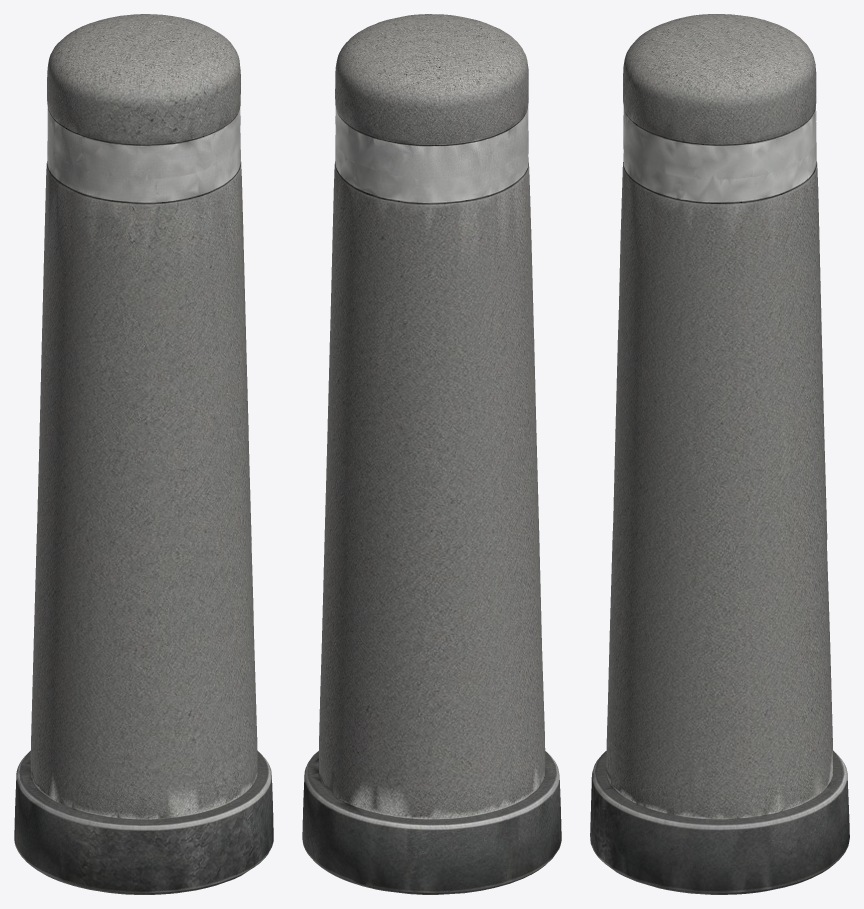
The model's file is bollard2_lod1.glb.
3 views of the same model, side by side, from view 1: azimuth 30°, elevation 25°; view 2: azimuth 150°, elevation 25°; view 3: azimuth 270°, elevation 25° (orthographic).
Visible parts, largest first — view 1: mesh_node; view 2: mesh_node; view 3: mesh_node.
Part boxes in pixels (left/top/right/bottom): mesh_node: left=14, top=14, right=273, bottom=894; mesh_node: left=302, top=14, right=561, bottom=894; mesh_node: left=590, top=14, right=849, bottom=894.
Size of the model in its own units: 0.5566 by 1.9 by 0.5566.
Materials: 1 (1 with a texture image).
